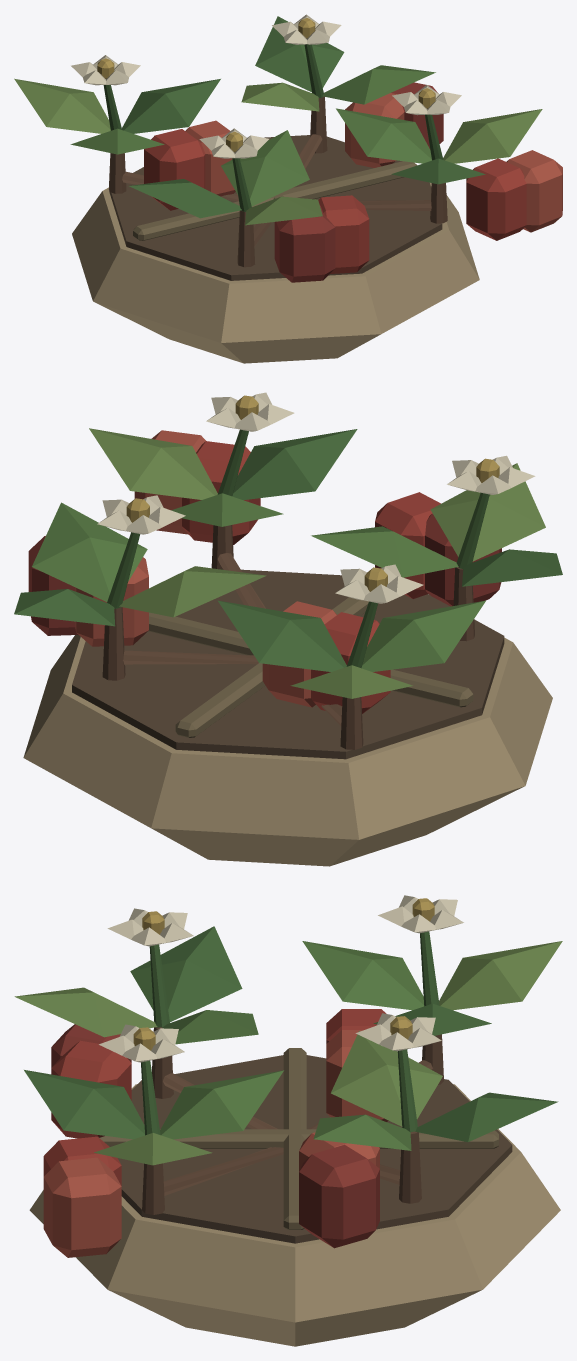
The model's file is wild_strawberry_packed_spring.glb.
3 views of the same model, one above another, from view 1: azimuth 30°, elevation 25°; view 2: azimuth 150°, elevation 25°; view 3: azimuth 270°, elevation 25° (orthographic). The views are drawn at different scales.
Parts seen in each view (by area): view 1: wild_strawberry_packed_spring; view 2: wild_strawberry_packed_spring; view 3: wild_strawberry_packed_spring.
Boxes of the visible parts, x1,y1,x2,y2 form: wild_strawberry_packed_spring: (14, 14, 562, 363); wild_strawberry_packed_spring: (14, 392, 562, 866); wild_strawberry_packed_spring: (14, 895, 562, 1346).
Size of the model in its own units: 1.29 by 0.767 by 1.24.
